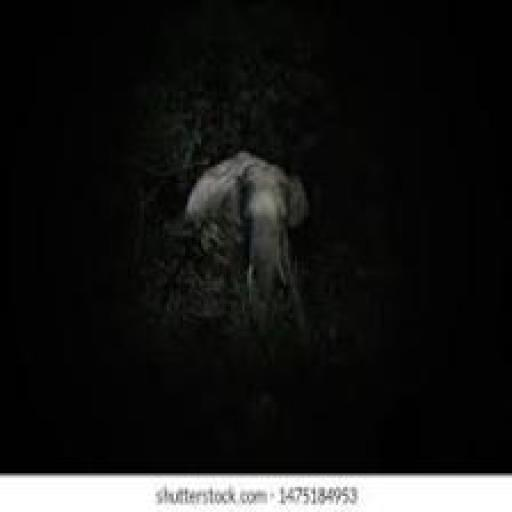Elephant: (174, 152, 308, 342)
